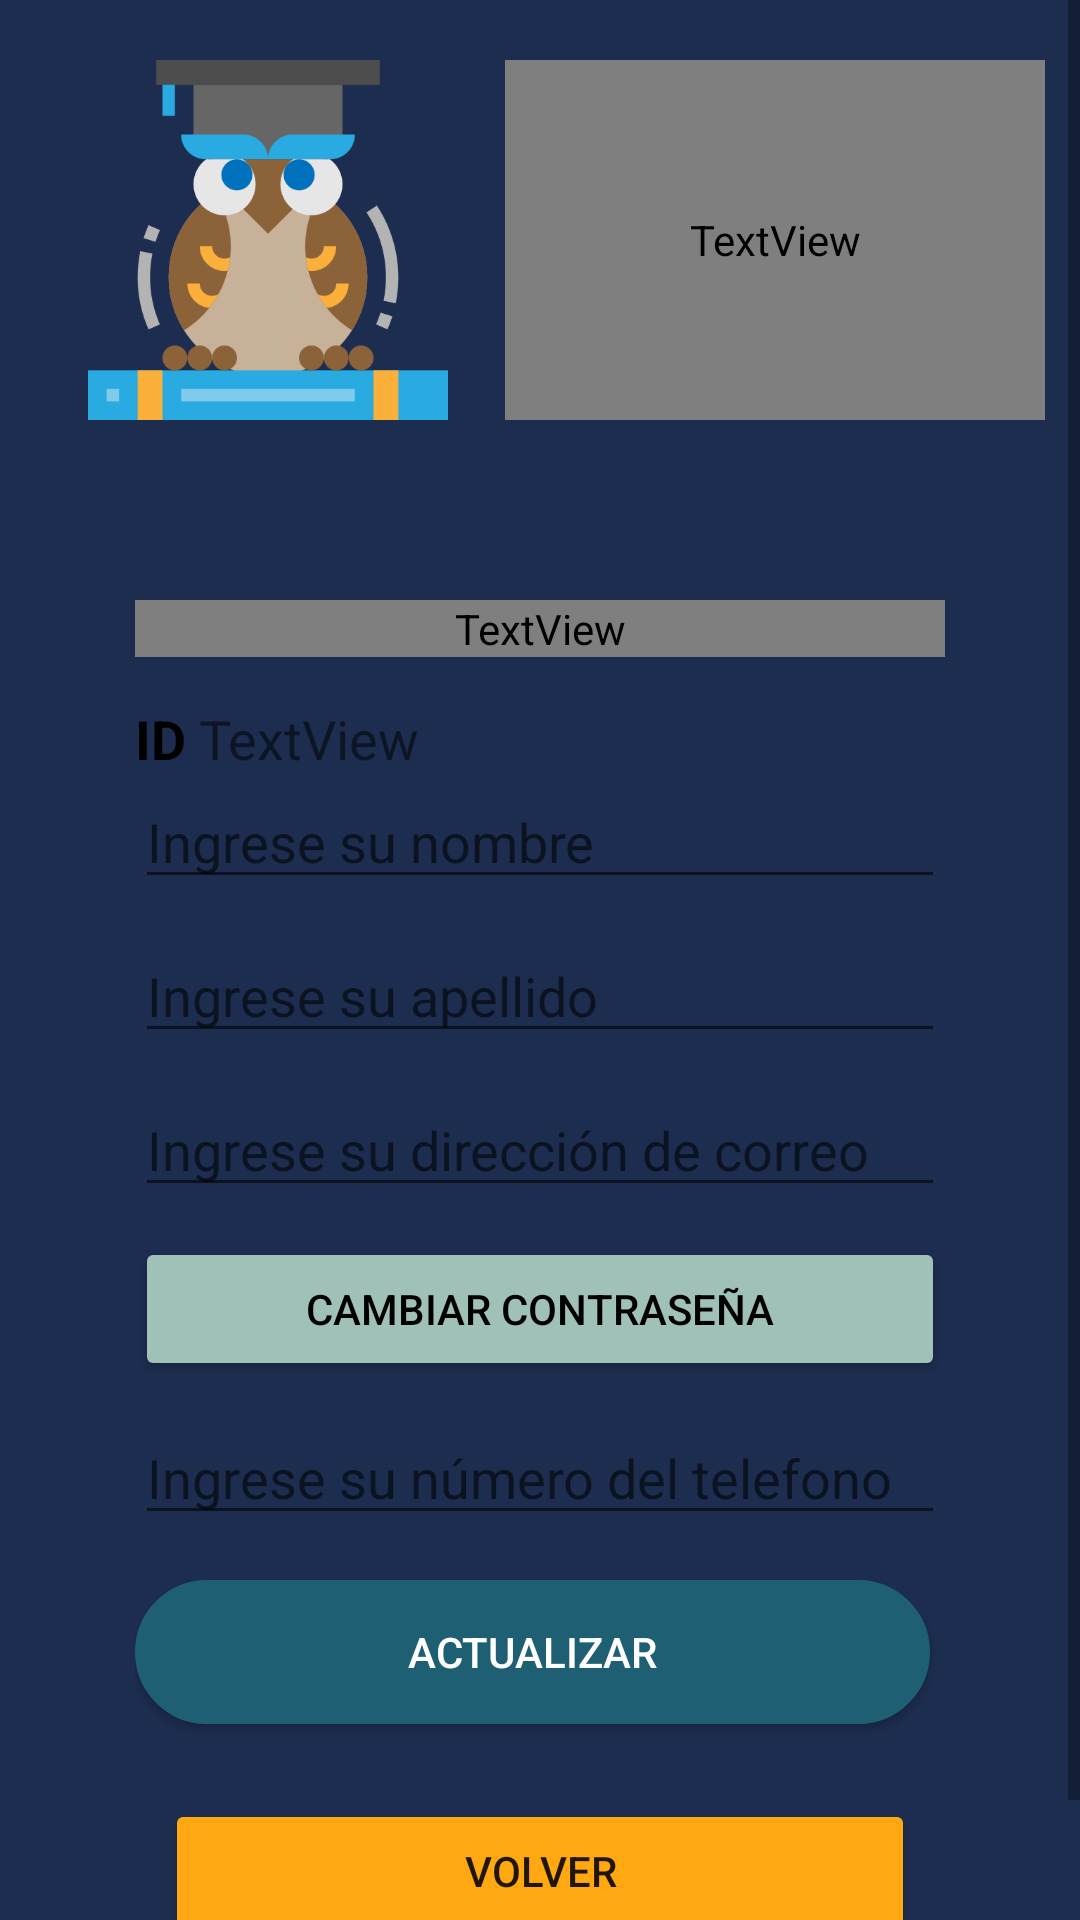

Icons on this 1080*1920 Android screen, each with the point to tap as (x=x, y=y):
profesor: (x=268, y=240)
